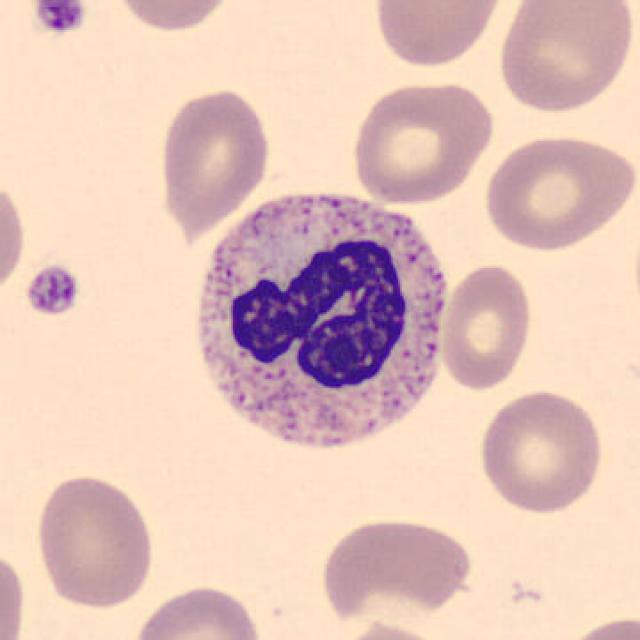Neutrophil: (180, 178, 458, 473)
Platelets: (23, 261, 82, 319), (30, 0, 89, 37)
RBC: (347, 76, 498, 206), (478, 130, 636, 254), (316, 511, 476, 626), (30, 471, 158, 610), (154, 85, 274, 231), (475, 386, 606, 517), (492, 0, 636, 115), (437, 261, 535, 393), (368, 0, 508, 71), (128, 582, 267, 640), (106, 0, 240, 35), (0, 173, 30, 303), (0, 541, 30, 640), (327, 619, 457, 640), (558, 612, 638, 640)
